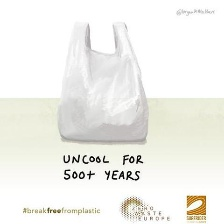plastic_bag: (53, 18, 152, 145)
